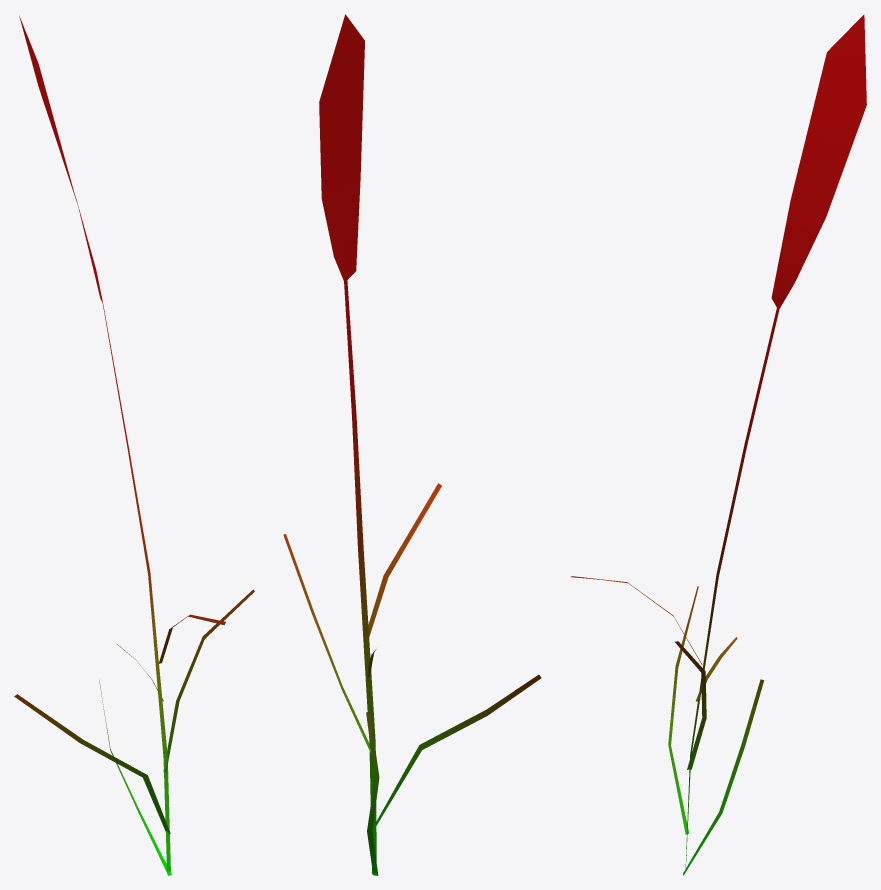
Rendered from Tundra Grass_LOD6_Var20_wk2oaeyqx.fbx.
The picture shows the model from 3 angles, left to right: view 1: azimuth 30°, elevation 25°; view 2: azimuth 150°, elevation 25°; view 3: azimuth 270°, elevation 25°; orthographic projection. The views are drawn at different scales.
Visible parts, largest first — view 1: _rl36_Var20_LOD6; view 2: _rl36_Var20_LOD6; view 3: _rl36_Var20_LOD6.
Boxes of the visible parts, bbox=[...] form: _rl36_Var20_LOD6: bbox=[14, 15, 254, 875]; _rl36_Var20_LOD6: bbox=[283, 14, 541, 875]; _rl36_Var20_LOD6: bbox=[571, 14, 866, 875].
Size of the model in its own units: 15.71 by 53.12 by 17.22.
